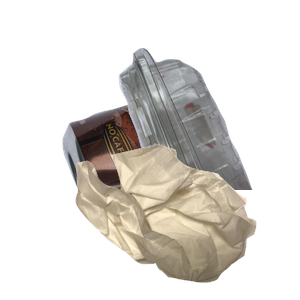glass: (94, 184, 253, 300)
metal: (60, 79, 300, 259)
plastic: (71, 45, 300, 225)
trash: (73, 142, 300, 300)
